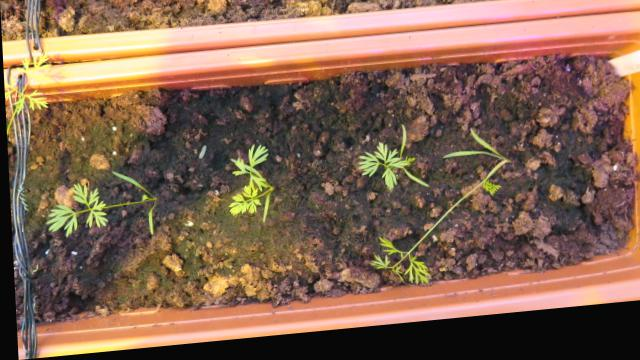crop: (37, 164, 156, 247), (346, 124, 430, 203), (221, 143, 282, 232)
